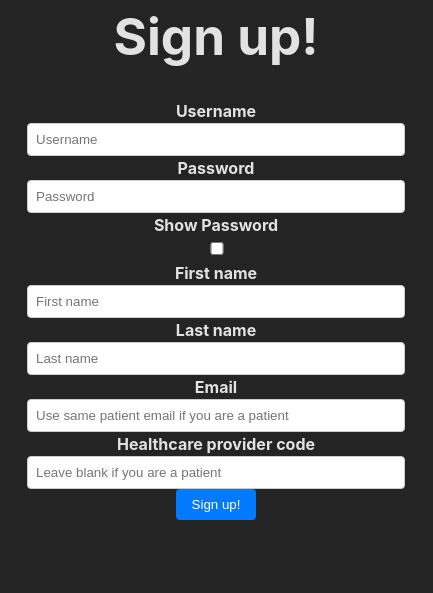
Test: SignUpForm component › shows error with signup failure
In the field labelled "Username": x=216, y=139 top-left (27, 123), bottom-right (405, 156), type "testuser"
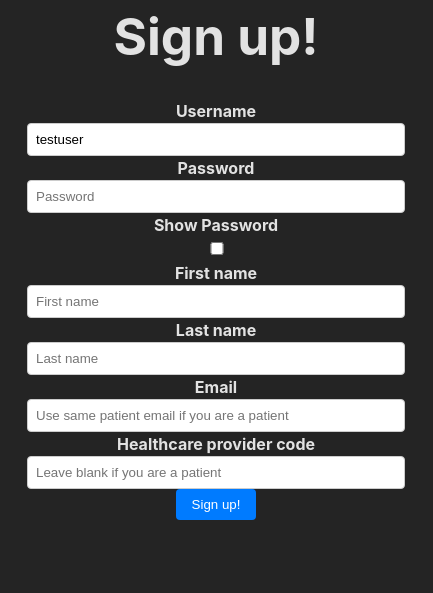
In the password field labelled "Password": x=216, y=196 top-left (27, 180), bottom-right (405, 213), type "testpassword"
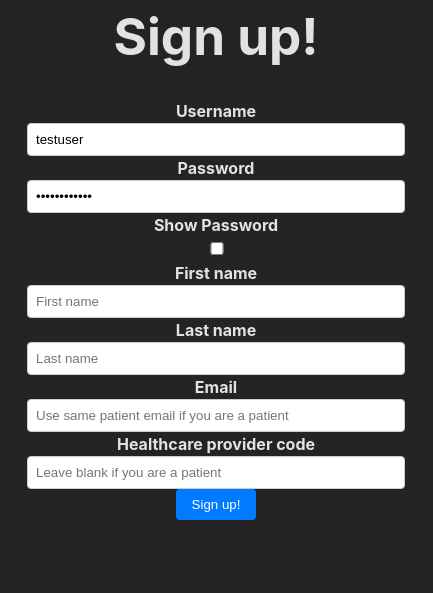
In the field labelled "First name": x=216, y=301 top-left (27, 285), bottom-right (405, 318), type "John"
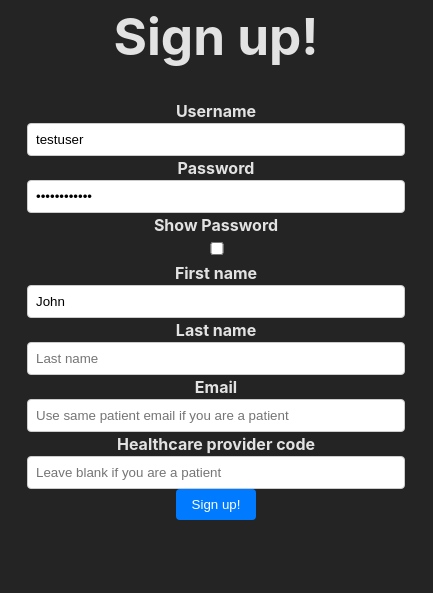
In the field labelled "Last name": x=216, y=358 top-left (27, 342), bottom-right (405, 375), type "Doe"
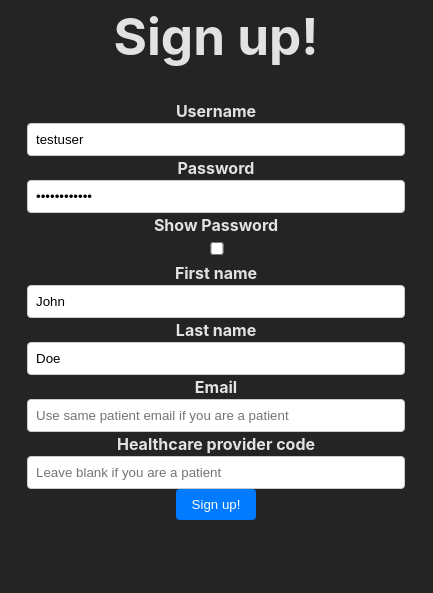
In the field labelled "Email": x=216, y=415 top-left (27, 399), bottom-right (405, 432), type "john.doe@example.com"
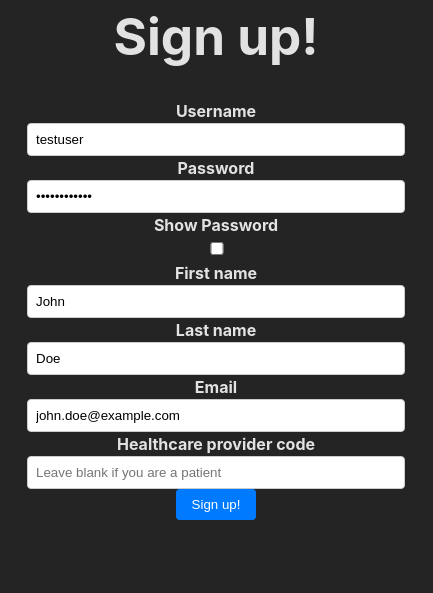
Click the button: x=216, y=504 top-left (176, 489), bottom-right (256, 520)
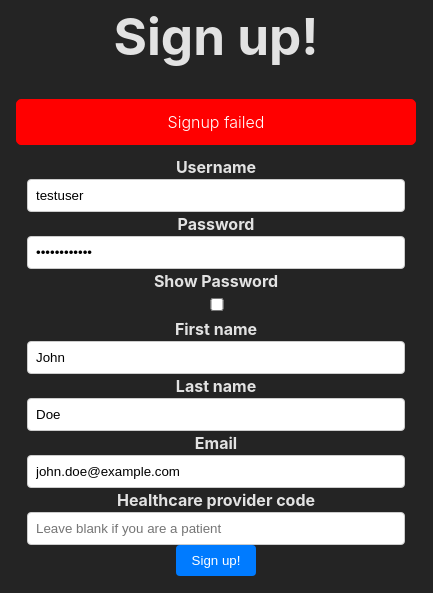
Now the text "Signup failed" is shown, box top-left (16, 99), bottom-right (416, 145)
